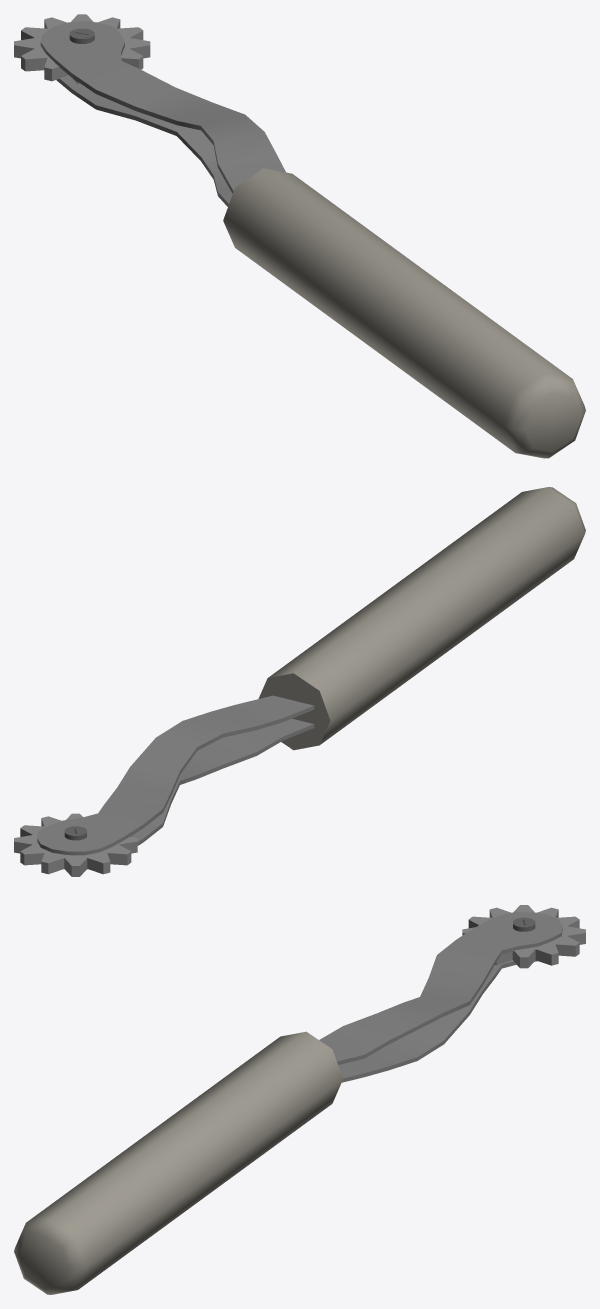
The model's file is tool-5.fbx.
3 renders of one model, top to bottom at view 1: azimuth 30°, elevation 25°; view 2: azimuth 150°, elevation 25°; view 3: azimuth 330°, elevation 25°, orthographic. The views are drawn at different scales.
Visible parts, largest first — view 1: tool-5; view 2: tool-5; view 3: tool-5.
Boxes of the visible parts, box(x1,y1,x2,y2) form: tool-5: box(14, 14, 585, 458); tool-5: box(14, 487, 585, 876); tool-5: box(14, 905, 585, 1294).
Bounding box in the file's own units: 3.1 × 1.95 × 22.24.
2 materials, 2 textured.
